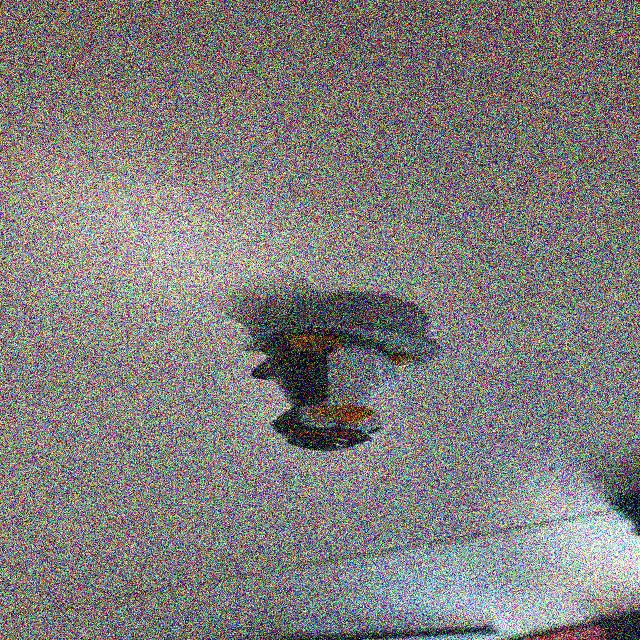Penguin: (229, 307, 444, 461)
